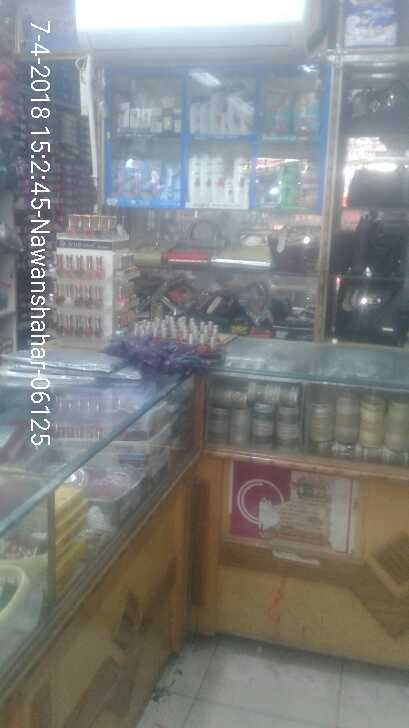venus: (114, 160, 137, 197), (138, 161, 159, 198), (159, 161, 178, 198)
